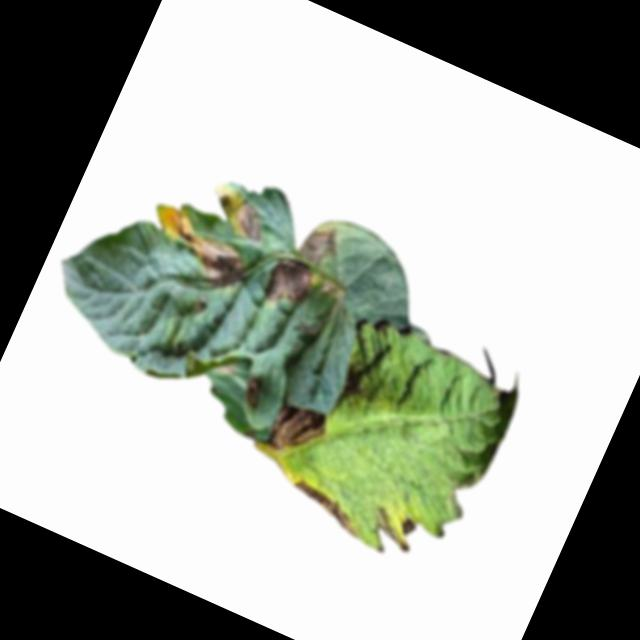Early_blight: (140, 200, 258, 296), (283, 476, 370, 541), (263, 397, 331, 465), (259, 253, 319, 315), (294, 213, 348, 272), (225, 195, 273, 243), (235, 367, 270, 410), (395, 512, 420, 538)
